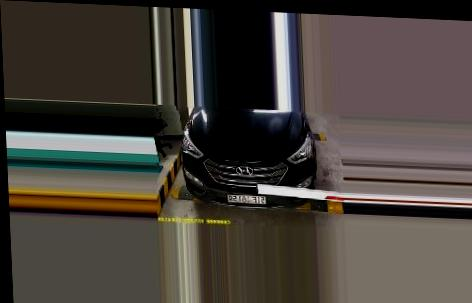License_Plate: (223, 191, 265, 207)
